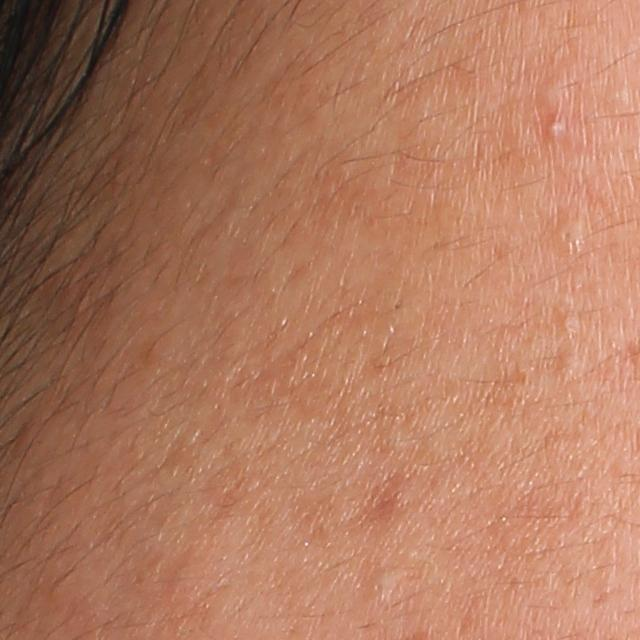comedo: (540, 77, 573, 110), (552, 221, 586, 251), (555, 349, 582, 384), (556, 306, 581, 331)
